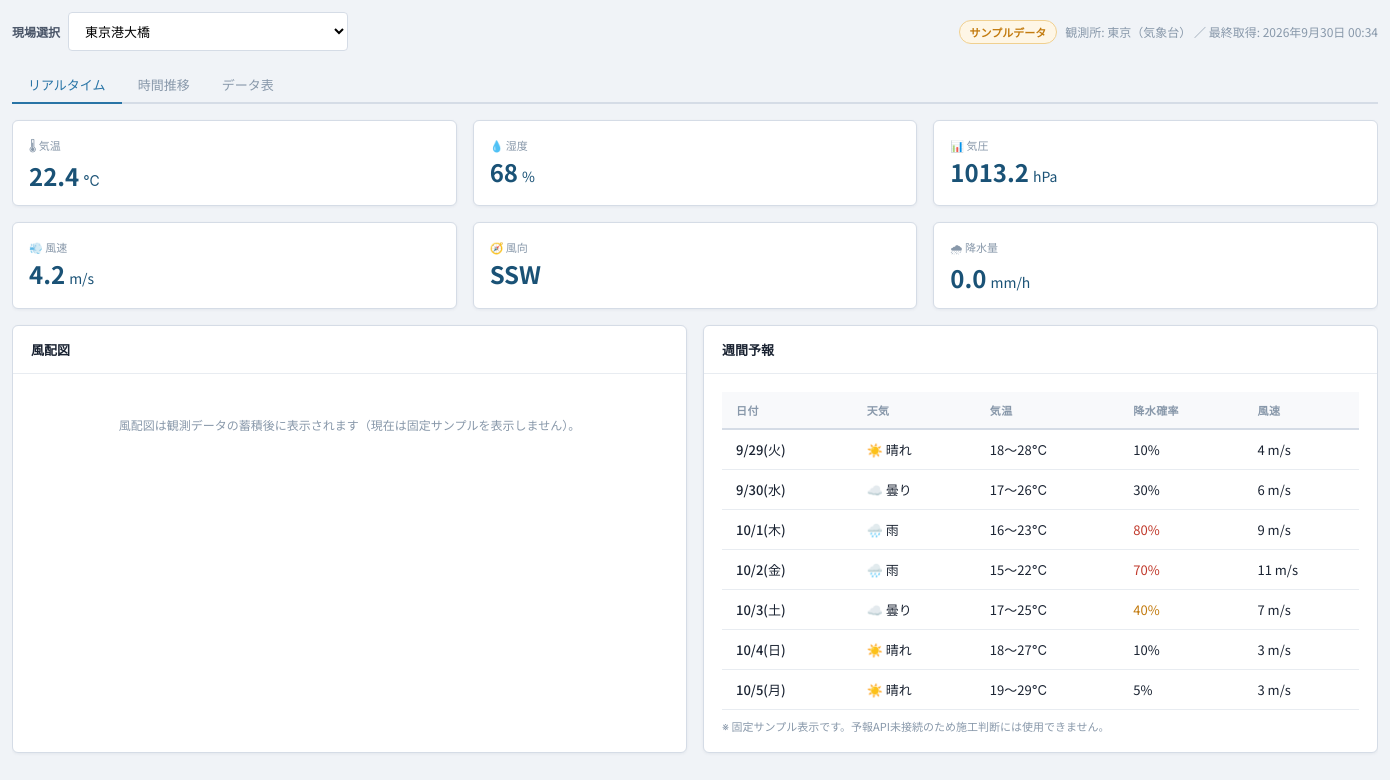
Test: WeatherPage › switches to table tab and renders 24 hourly rows
Click the button with class "tab" showing "データ表".
click(248, 86)  # box [206,67,290,104]
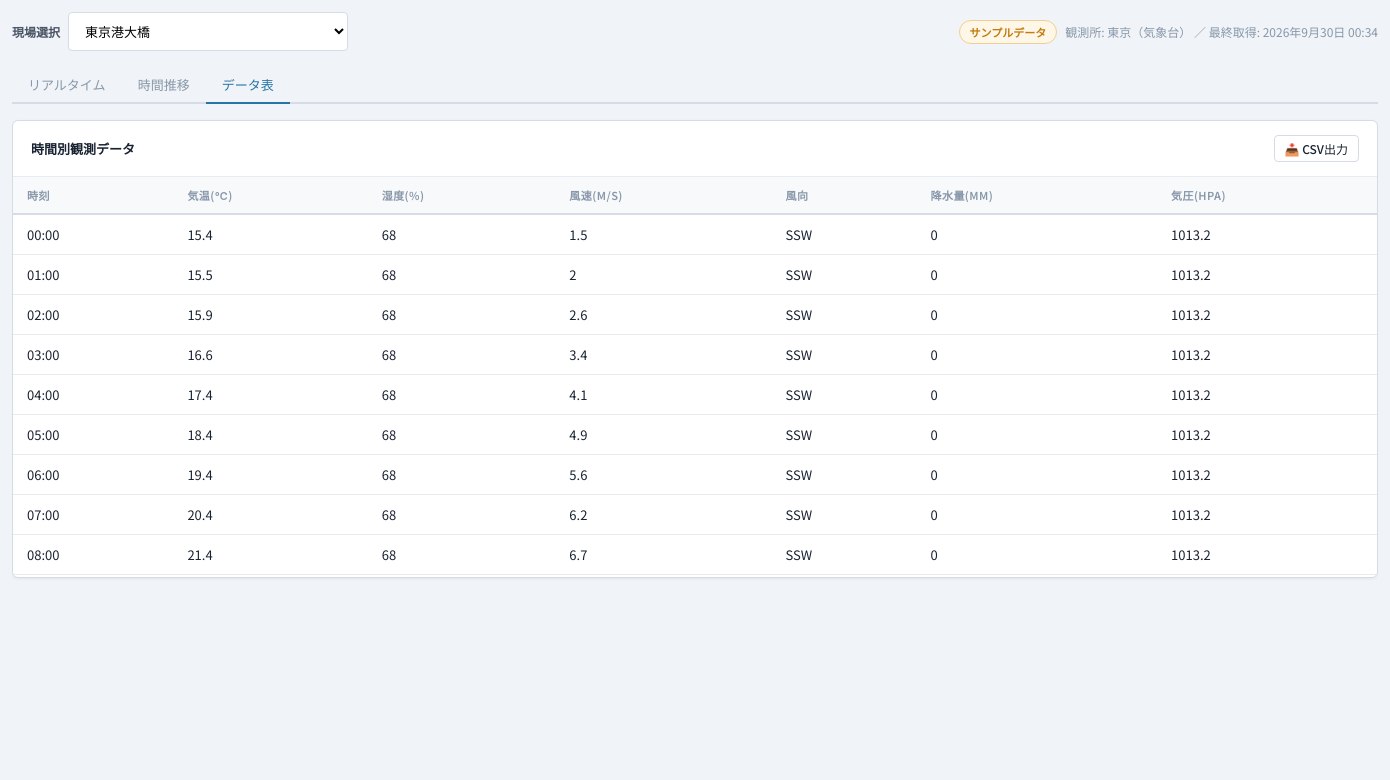
Check: the text "時間別観測データ" is shown, box [31,139,135,158]
